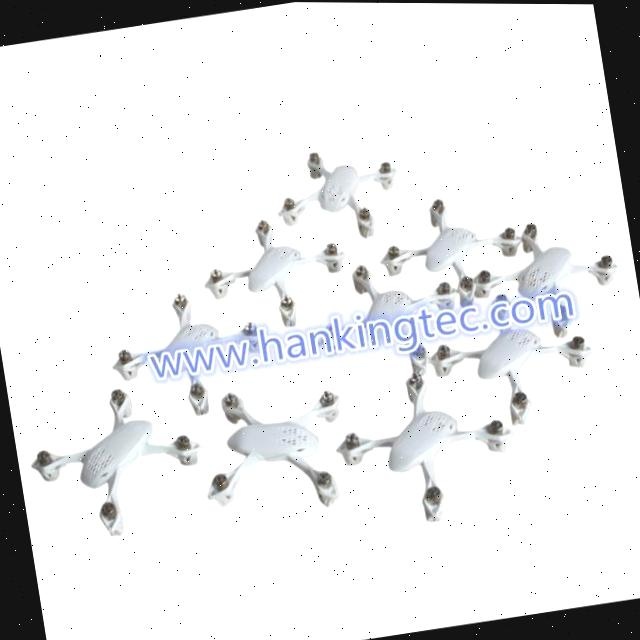drone: (324, 358, 530, 538), (28, 389, 218, 550), (94, 284, 274, 432), (426, 285, 601, 434), (188, 198, 360, 340), (369, 167, 528, 319), (200, 371, 355, 523), (465, 201, 631, 342), (318, 248, 480, 378), (262, 128, 407, 250)
